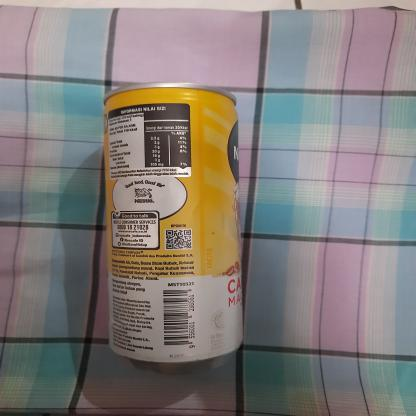can: (99, 77, 249, 375)
